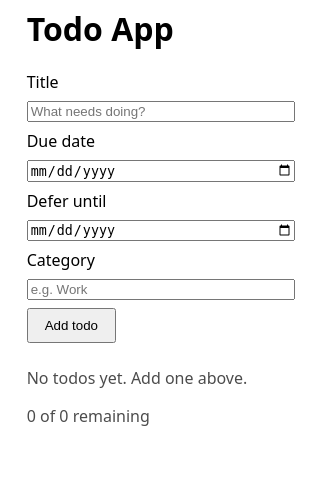
Test case: Todo App GUI › shows an error instead of adding an invalid todo
Click the button "Add todo" at (71, 326), box [27, 308, 116, 343]
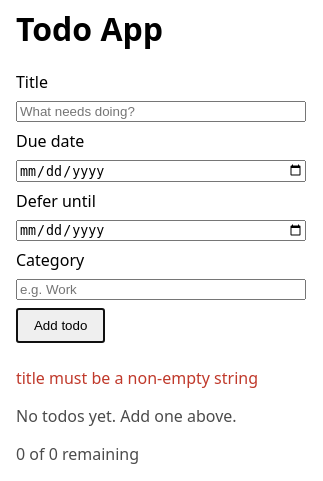
Check: the message reads "title must be a non-empty string", box [16, 367, 258, 389]
